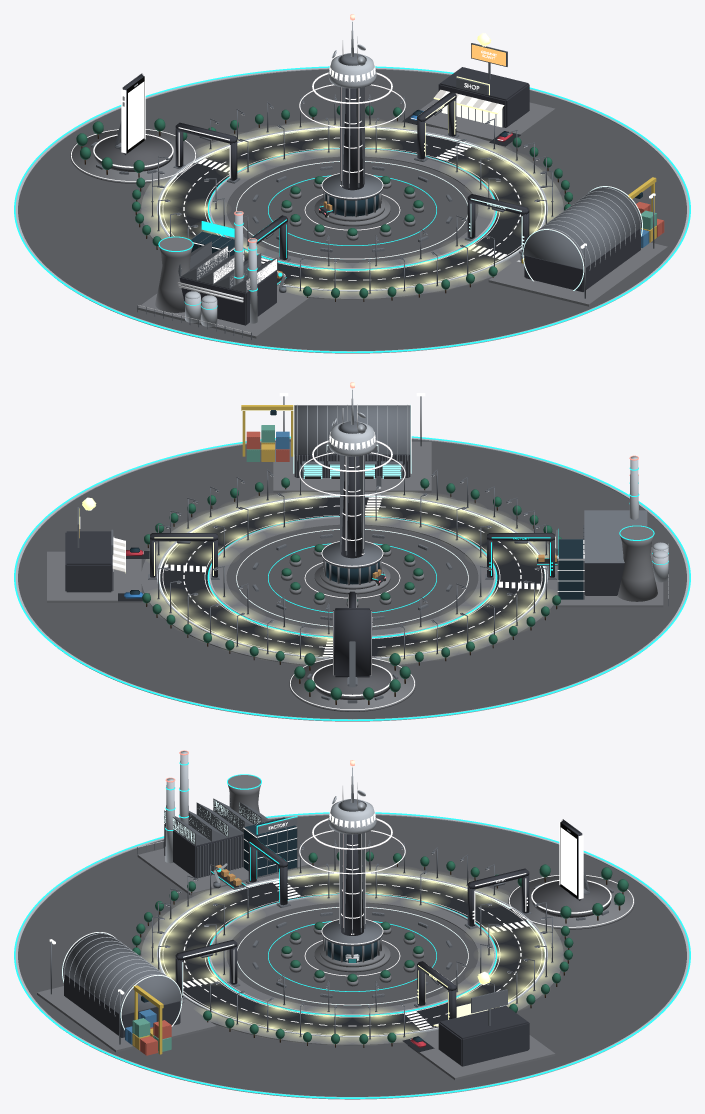
The model's file is ring.glb.
3 renders of one model, top to bottom at view 1: azimuth 30°, elevation 25°; view 2: azimuth 150°, elevation 25°; view 3: azimuth 270°, elevation 25°, orthographic.
Visible parts, largest first — view 1: Ground, Road, Plaza, LightPools, Warehouse_mesh, Factory_mesh, Regulator_mesh, Retailer_mesh, Buyer_base, Streetlights, Trees, Arch_buyer_mesh (+5 smaller); view 2: Ground, Road, Plaza, LightPools, Warehouse_mesh, Factory_mesh, Regulator_mesh, Retailer_mesh, Buyer_base, Streetlights, Buyer_phone_mesh, Trees (+2 smaller); view 3: Ground, Road, Plaza, LightPools, Warehouse_mesh, Factory_mesh, Retailer_mesh, Regulator_mesh, Buyer_base, Streetlights, Trees, Arch_buyer_mesh (+5 smaller).
Part boxes in pixels (left/top/right/bottom): Ground: left=14, top=66, right=690, bottom=353; Road: left=157, top=126, right=547, bottom=292; Plaza: left=226, top=157, right=478, bottom=262; LightPools: left=144, top=121, right=560, bottom=296; Warehouse_mesh: left=488, top=177, right=667, bottom=306; Factory_mesh: left=137, top=211, right=308, bottom=339; Regulator_mesh: left=314, top=20, right=390, bottom=226; Retailer_mesh: left=402, top=43, right=555, bottom=146; Buyer_base: left=70, top=118, right=196, bottom=183; Streetlights: left=151, top=94, right=553, bottom=294; Trees: left=132, top=105, right=572, bottom=301; Arch_buyer_mesh: left=173, top=122, right=240, bottom=183; Ground: left=14, top=436, right=690, bottom=721; Road: left=157, top=494, right=547, bottom=659; Plaza: left=226, top=525, right=478, bottom=630; LightPools: left=151, top=492, right=553, bottom=662; Warehouse_mesh: left=241, top=393, right=431, bottom=492; Factory_mesh: left=537, top=455, right=668, bottom=607; Regulator_mesh: left=314, top=388, right=390, bottom=594; Retailer_mesh: left=47, top=507, right=149, bottom=602; Buyer_base: left=289, top=653, right=415, bottom=711; Streetlights: left=157, top=464, right=547, bottom=659; Buyer_phone_mesh: left=333, top=608, right=372, bottom=687; Trees: left=142, top=477, right=561, bottom=665; Ground: left=14, top=812, right=690, bottom=1099; Road: left=157, top=872, right=547, bottom=1037; Plaza: left=226, top=903, right=478, bottom=1008; LightPools: left=144, top=867, right=560, bottom=1042; Warehouse_mesh: left=37, top=932, right=216, bottom=1055; Factory_mesh: left=137, top=750, right=308, bottom=895; Retailer_mesh: left=402, top=989, right=555, bottom=1080; Regulator_mesh: left=314, top=766, right=390, bottom=972; Buyer_base: left=508, top=864, right=634, bottom=929; Streetlights: left=151, top=840, right=553, bottom=1040; Trees: left=132, top=851, right=573, bottom=1047; Arch_buyer_mesh: left=464, top=868, right=531, bottom=929.
Size of the model in its own units: 129 by 42.15 by 129.
79 materials, 1 textured.
